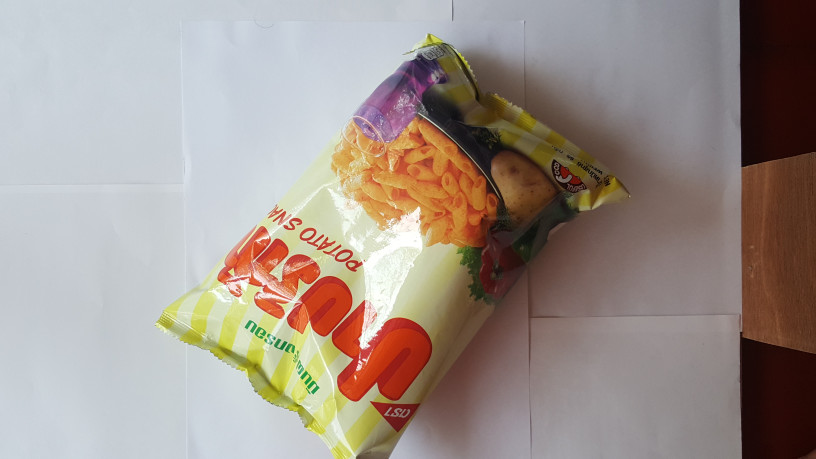paprika: (141, 30, 647, 459)
